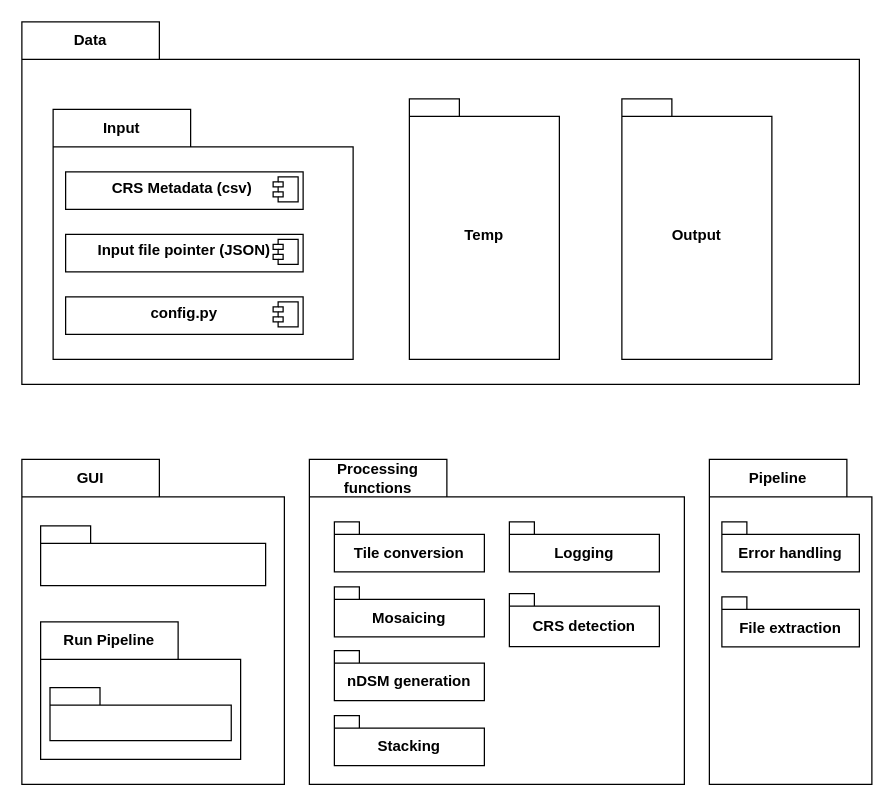
This 894x806 diagram has some shape labels left out. The shapes that lost their labels are listed below. From the top down, each one's centre as x and y in pixels, then its label:
point 152,555: Creation: Input file pointer
point 140,713: Creation: CRS Metafile
